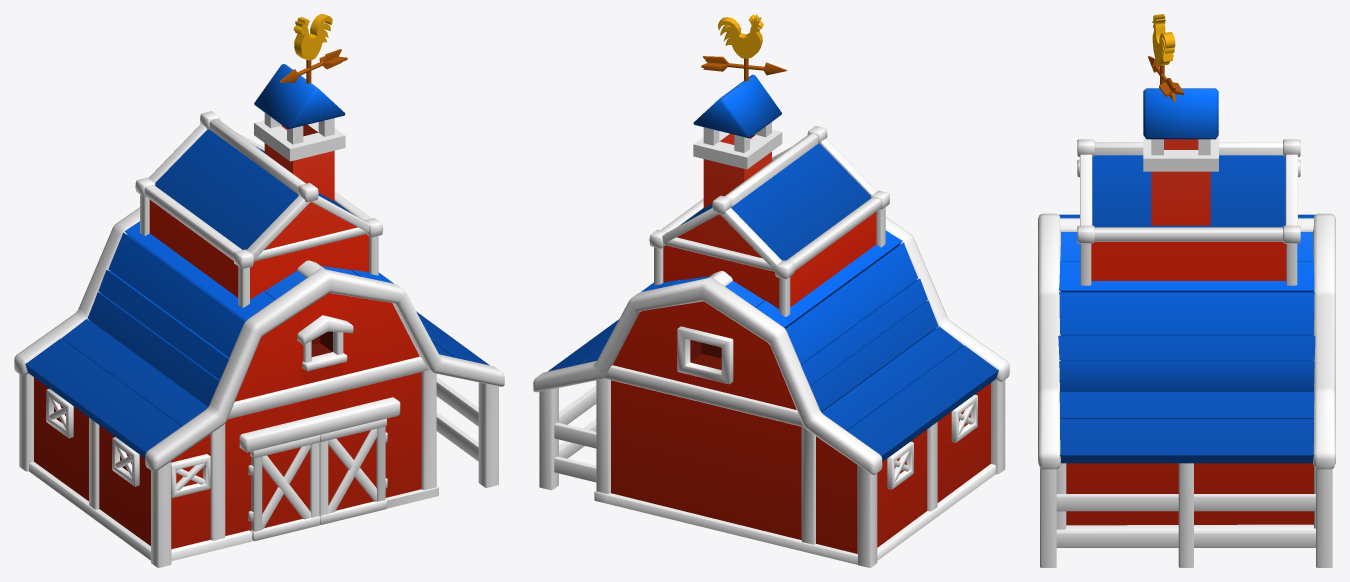
The model's file is Farm_House_House_01.fbx.
The picture shows the model from 3 angles, left to right: view 1: azimuth 30°, elevation 25°; view 2: azimuth 150°, elevation 25°; view 3: azimuth 270°, elevation 25°; orthographic projection. The views are drawn at different scales.
Visible parts, largest first — view 1: Farm_House_House_01, Farm_House_House_01_Door_A, Farm_House_House_01_Door_B; view 2: Farm_House_House_01; view 3: Farm_House_House_01.
Part boxes in pixels (bbox=[...]): Farm_House_House_01: bbox=[14, 14, 504, 567]; Farm_House_House_01_Door_A: bbox=[248, 435, 320, 541]; Farm_House_House_01_Door_B: bbox=[319, 418, 387, 524]; Farm_House_House_01: bbox=[533, 14, 1009, 567]; Farm_House_House_01: bbox=[1038, 14, 1335, 567].
Bounding box in the file's own units: 1571 × 1955 × 1096.
